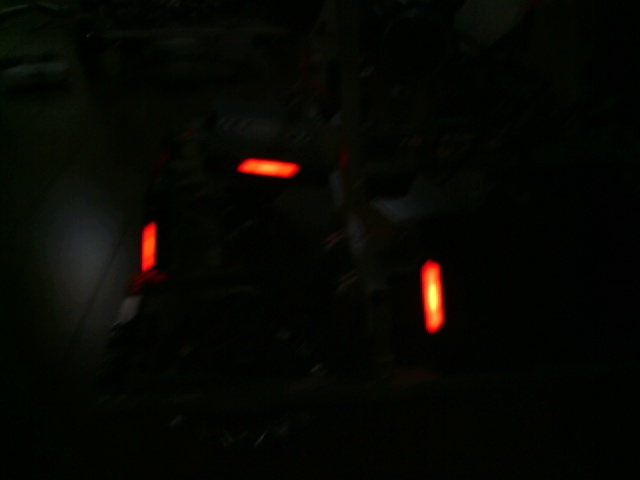lamp: (419, 261, 450, 331), (134, 222, 163, 274)
